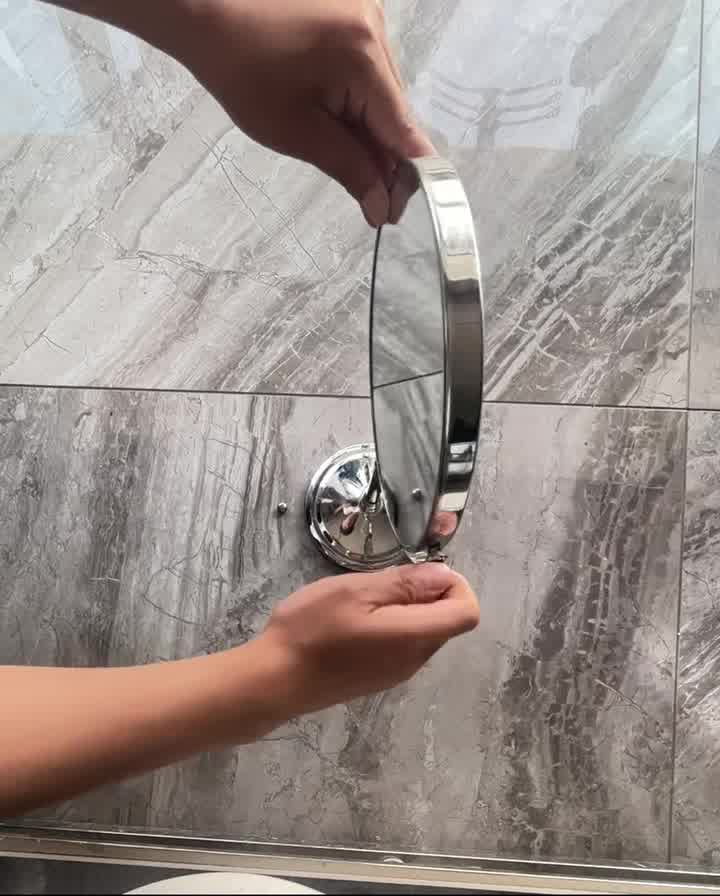base: (298, 437, 410, 574)
mirror: (362, 157, 494, 556)
screw: (265, 500, 291, 518)
